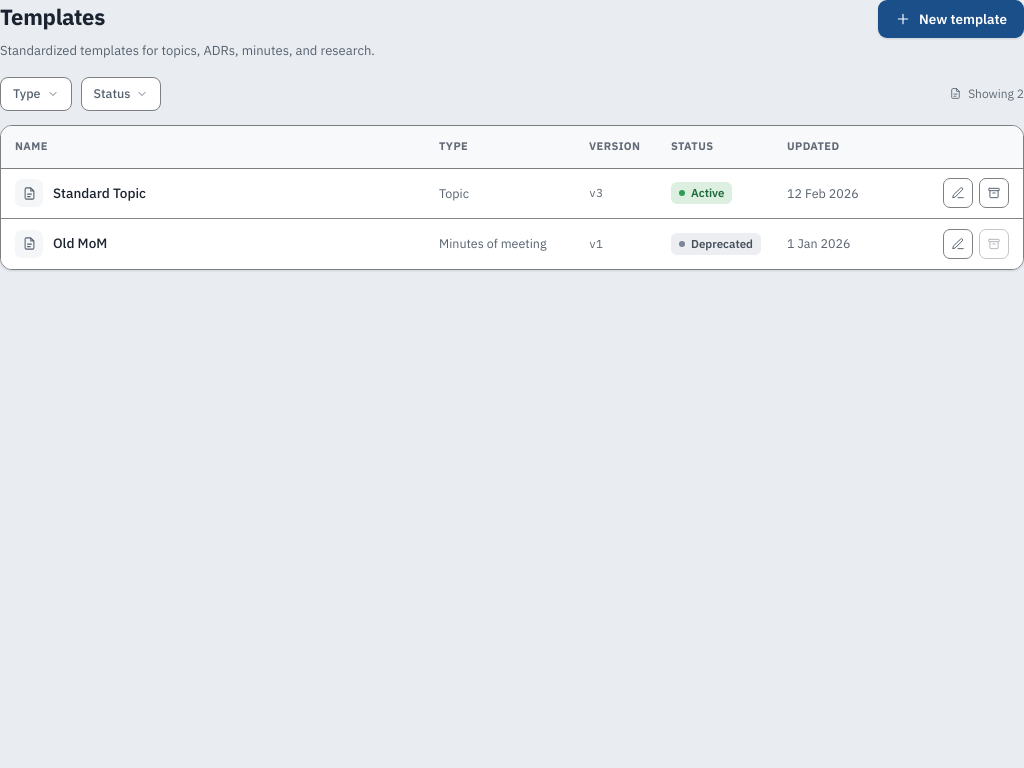
Test: TemplatesRegister (P15e) › cancels the deprecate confirmation without deprecating
Step 1. Click the button named "Deprecate Standard Topic" → click(994, 193), box top-left (979, 178), bottom-right (1009, 208)
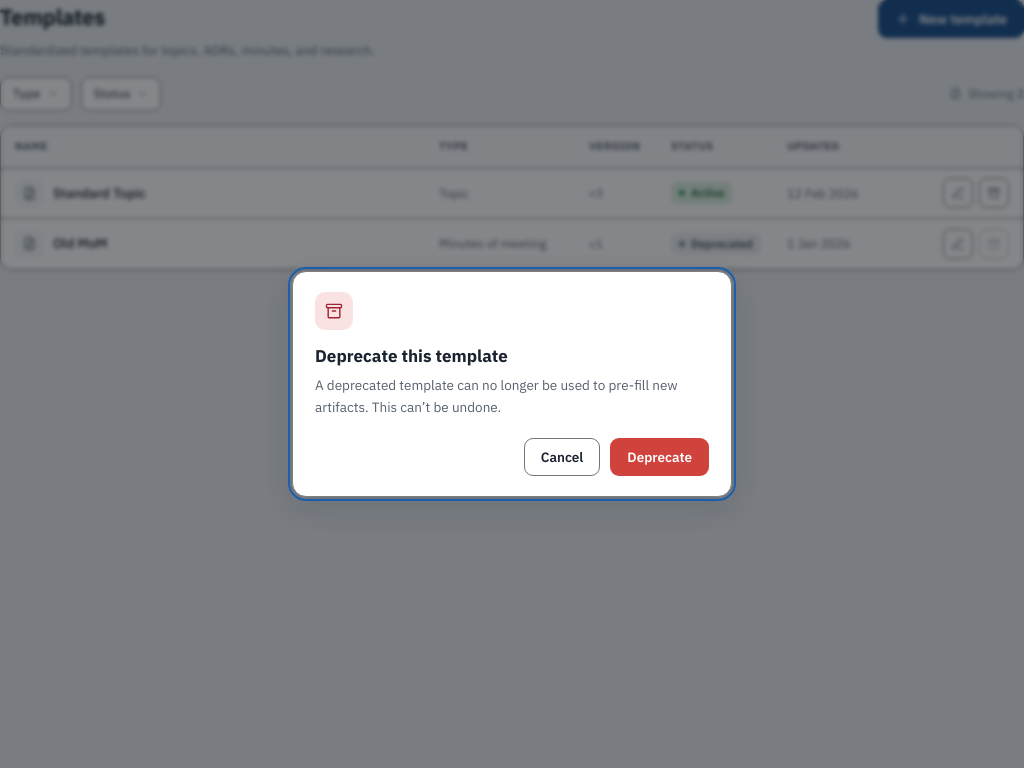
Now the heading "Deprecate this template" is shown, box top-left (315, 345), bottom-right (508, 367)
Step 2. Click the button "Cancel" → click(562, 457), box top-left (524, 438), bottom-right (600, 476)
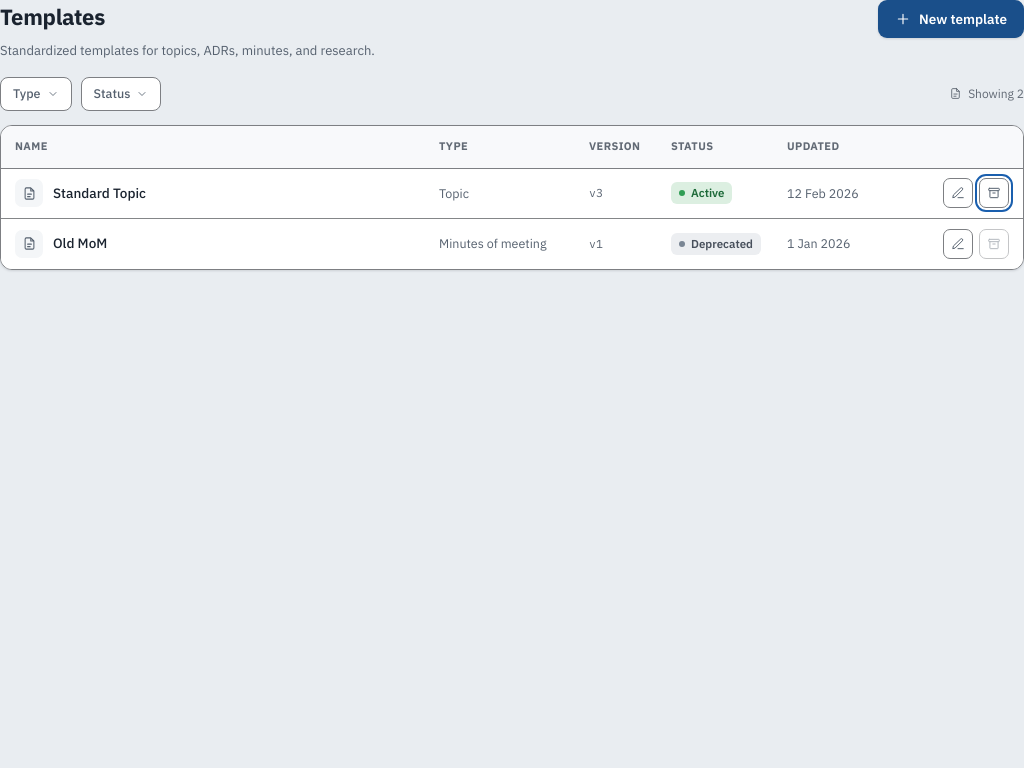
Now the heading "Deprecate this template" is gone
